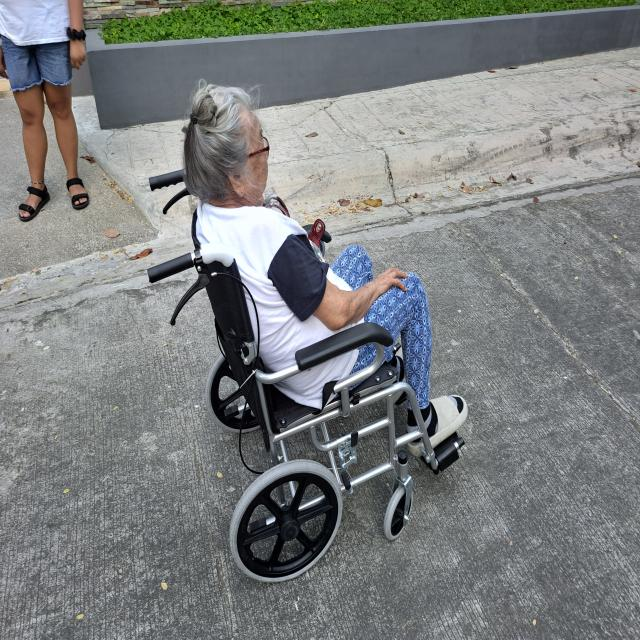wheelchairs: (133, 168, 476, 586)
